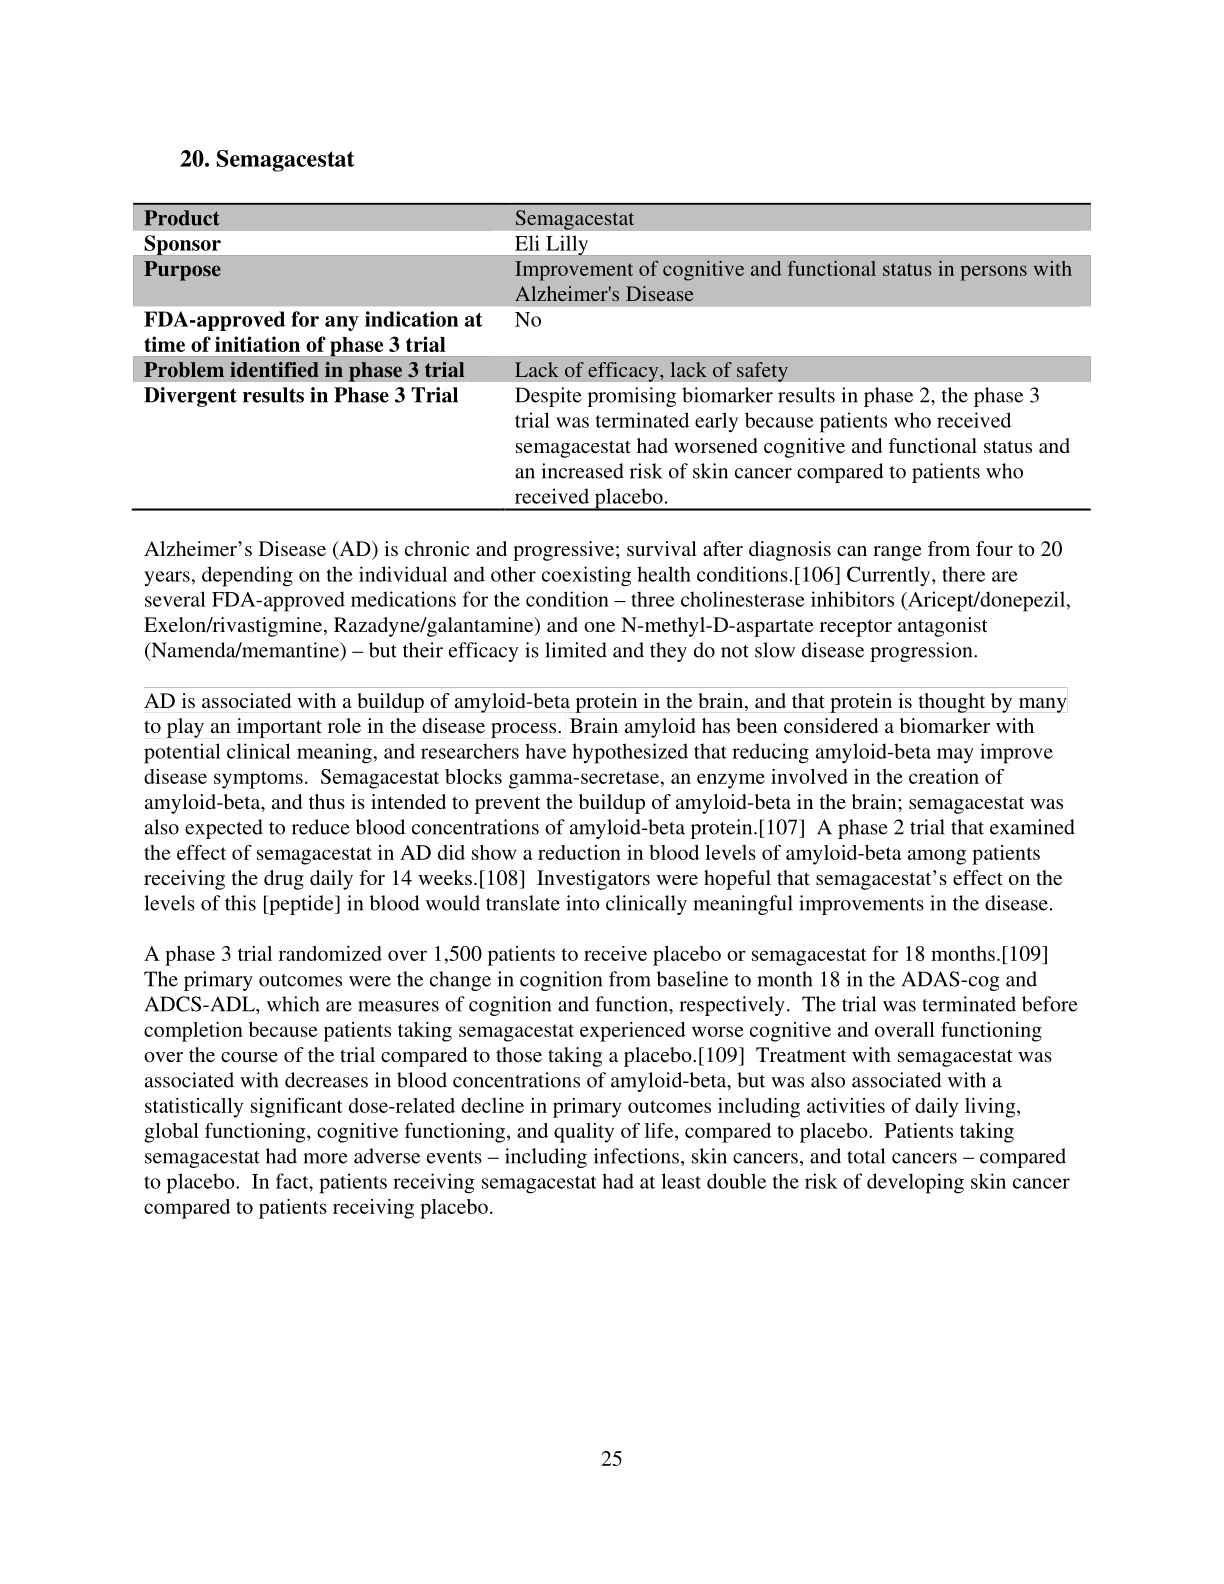partial_lined: (130, 201, 1092, 512)
